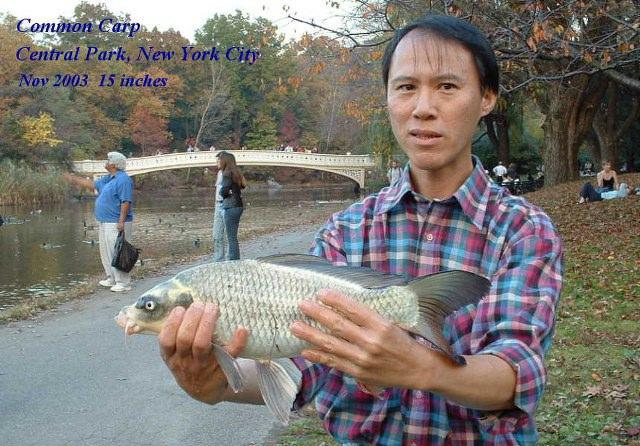Mulut: (104, 297, 150, 353)
Sirip Dada: (201, 334, 255, 407)
Sirip Ekor: (404, 260, 498, 366)
Sirip Perut: (247, 348, 310, 428)
Sirip Punggung: (254, 246, 408, 296)
